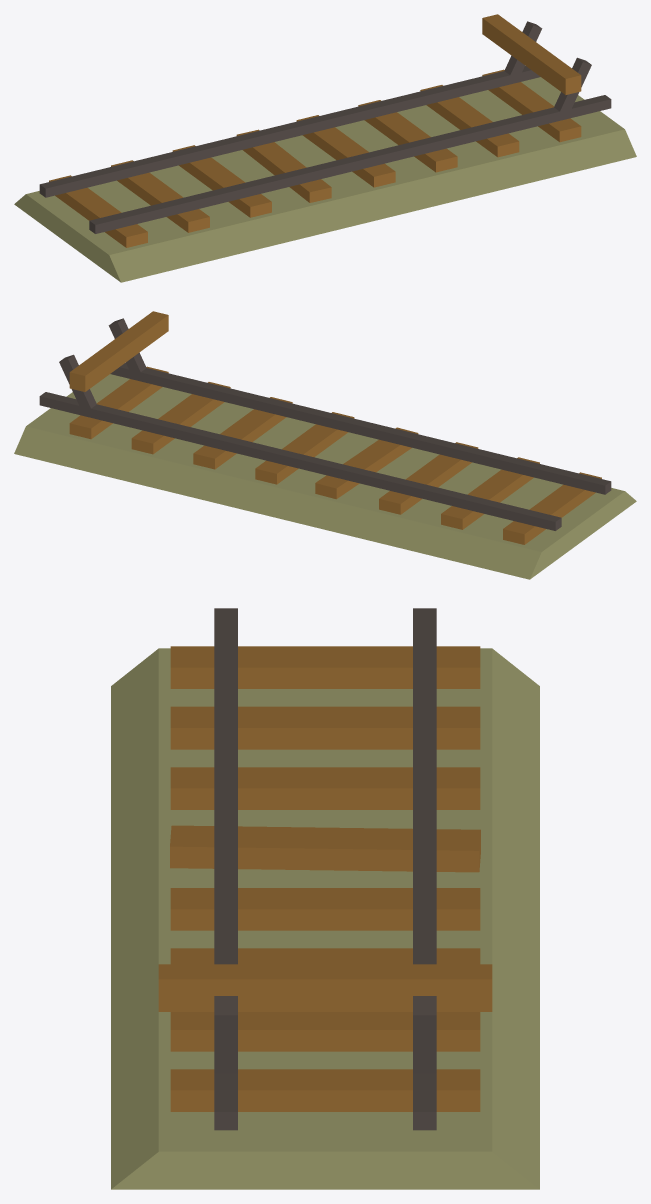
The model's file is SM_Via_Topera_v1_Madera_LOD1.fbx.
3 views of the same model, one above another, from view 1: azimuth 30°, elevation 25°; view 2: azimuth 150°, elevation 25°; view 3: azimuth 270°, elevation 25° (orthographic). The views are drawn at different scales.
Parts seen in each view (by area): view 1: SM_via_trazado_v36_LOD1; view 2: SM_via_trazado_v36_LOD1; view 3: SM_via_trazado_v36_LOD1.
Boxes of the visible parts, x1,y1,x2,y2 form: SM_via_trazado_v36_LOD1: (14,14,636,282); SM_via_trazado_v36_LOD1: (14,311,636,579); SM_via_trazado_v36_LOD1: (111,608,539,1189).
Bounding box in the file's own units: 10 × 1.55 × 3.6.
